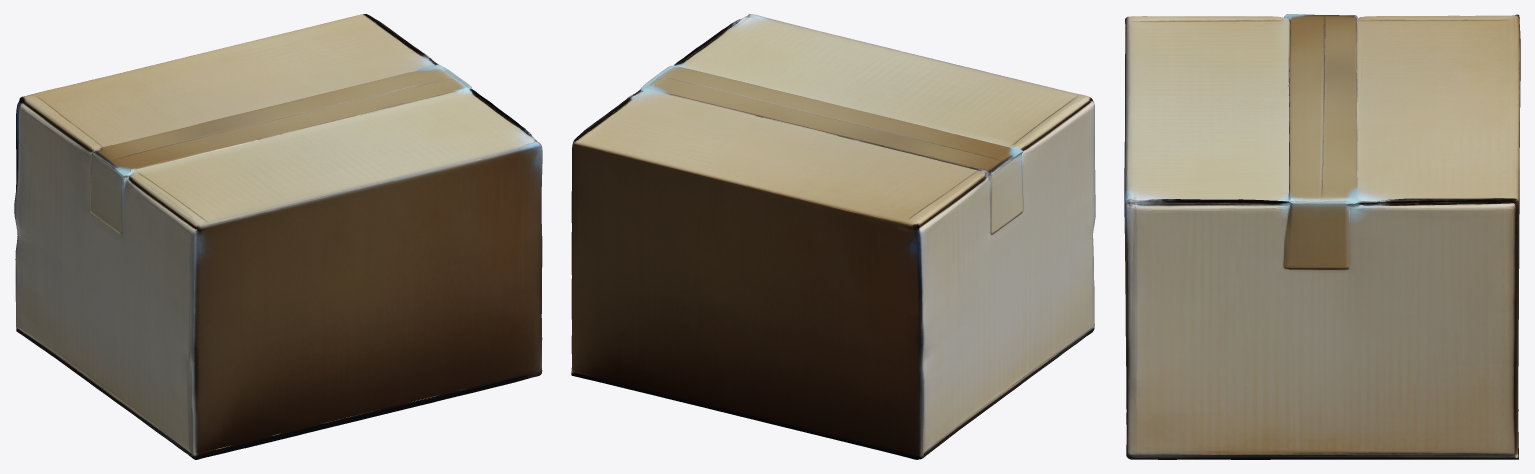
The picture shows the model from 3 angles, left to right: view 1: azimuth 30°, elevation 25°; view 2: azimuth 150°, elevation 25°; view 3: azimuth 270°, elevation 25°; orthographic projection. The views are drawn at different scales.
Parts seen in each view (by area): view 1: world; view 2: world; view 3: world.
Boxes of the visible parts, bbox=[...] form: world: bbox=[14, 14, 542, 459]; world: bbox=[571, 14, 1095, 459]; world: bbox=[1124, 14, 1520, 459].
Size of the model in its own units: 0.996 by 0.6315 by 0.867.
Materials: 1 (1 with a texture image).
